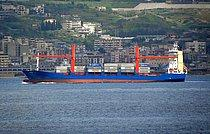Ship: (21, 40, 191, 86)
